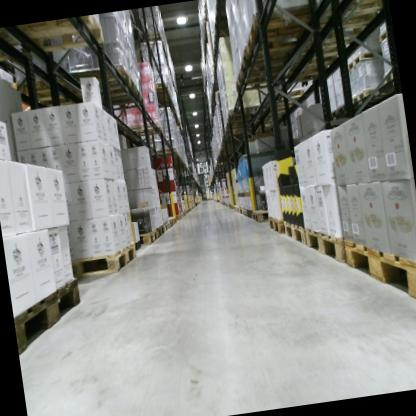pallet: (338, 225, 416, 317), (10, 277, 87, 358), (10, 15, 106, 56), (242, 4, 316, 55), (303, 0, 385, 44), (12, 72, 92, 117), (236, 34, 317, 75), (64, 242, 139, 282), (68, 63, 136, 104), (302, 221, 346, 273), (231, 61, 292, 96), (284, 59, 354, 87), (301, 33, 350, 65), (90, 86, 145, 112), (0, 25, 34, 63), (264, 86, 305, 108), (344, 47, 382, 70), (281, 215, 307, 248), (226, 102, 264, 122), (126, 119, 164, 138), (351, 86, 387, 102), (267, 213, 286, 237), (135, 227, 159, 246), (137, 30, 164, 46), (149, 145, 179, 159), (252, 207, 271, 225), (381, 69, 396, 85), (377, 29, 390, 45), (155, 223, 166, 237), (162, 218, 171, 231), (246, 206, 253, 219), (166, 216, 174, 227), (170, 215, 178, 225), (172, 212, 182, 220), (242, 206, 247, 216), (238, 205, 243, 214), (235, 205, 239, 212), (180, 211, 184, 217)
